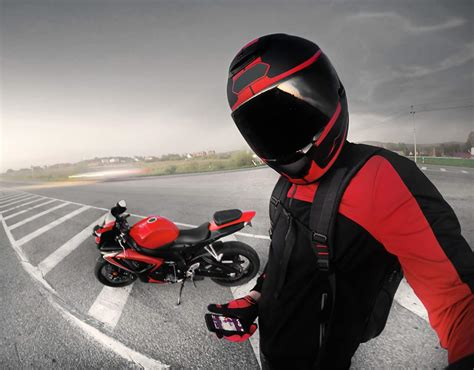com_capacete: (225, 32, 351, 187)
